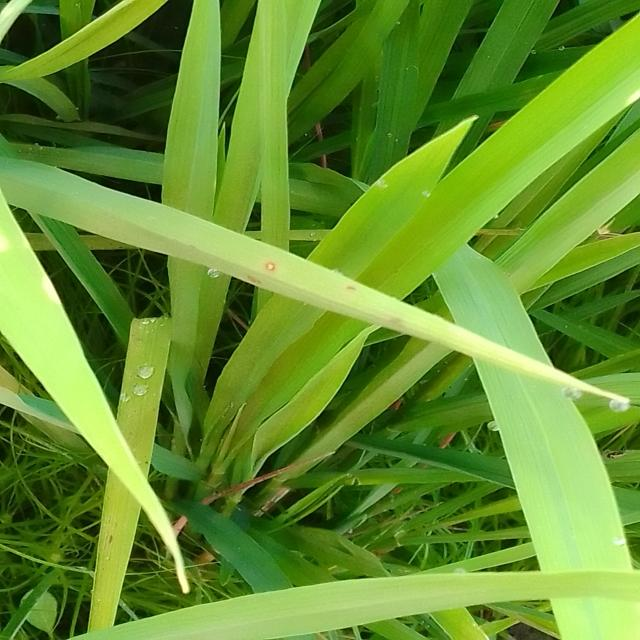insects: (344, 273, 422, 352), (239, 233, 282, 296)
